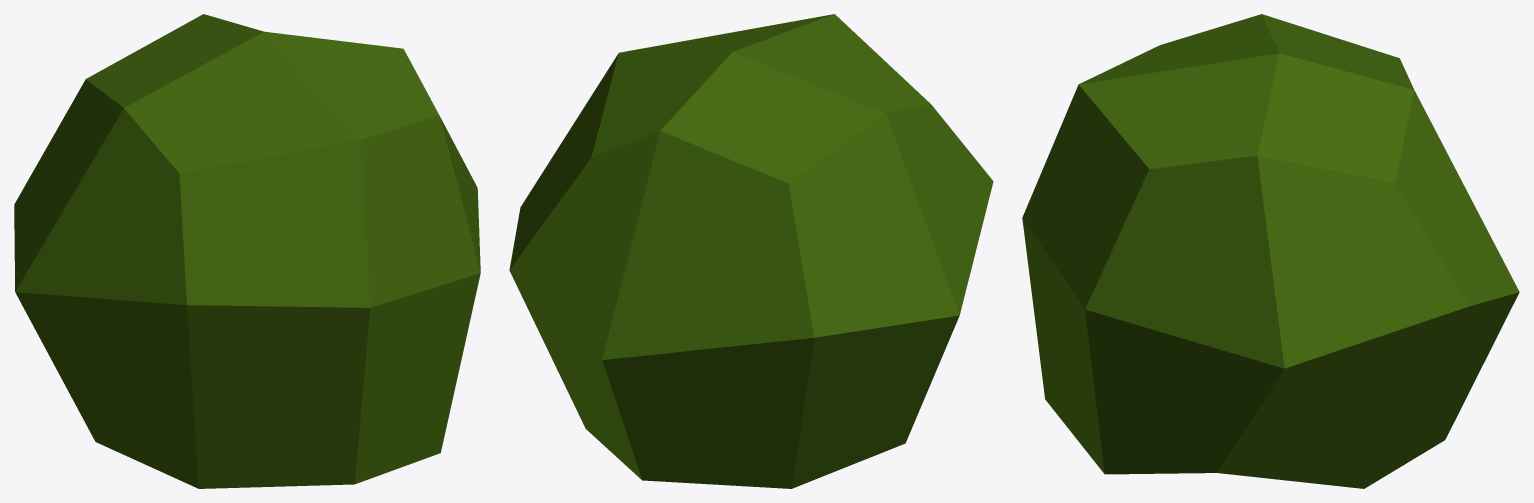
The model's file is _Bush.fbx.
3 renders of one model, left to right at view 1: azimuth 30°, elevation 25°; view 2: azimuth 150°, elevation 25°; view 3: azimuth 270°, elevation 25°, orthographic. The views are drawn at different scales.
Visible parts, largest first — view 1: bush; view 2: bush; view 3: bush.
Boxes of the visible parts, box(x1,y1,x2,y2) form: bush: box(14, 14, 480, 488); bush: box(509, 14, 993, 488); bush: box(1022, 14, 1519, 488).
Size of the model in its own units: 84.93 by 68.06 by 80.16.
